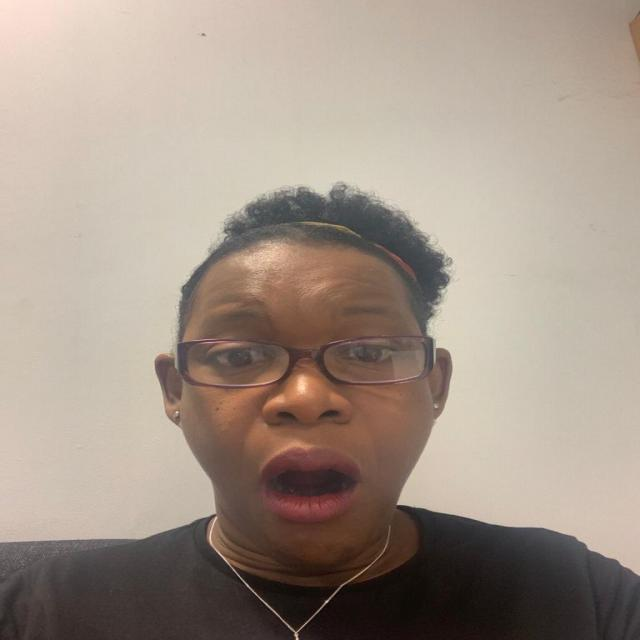sad: (148, 186, 460, 581)
